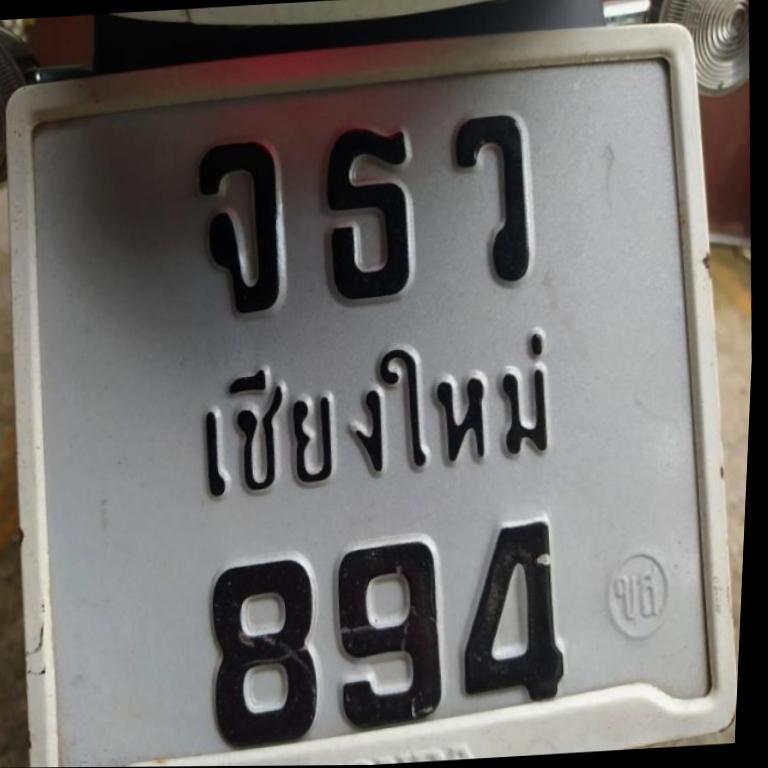license plate: (8, 27, 735, 768)
